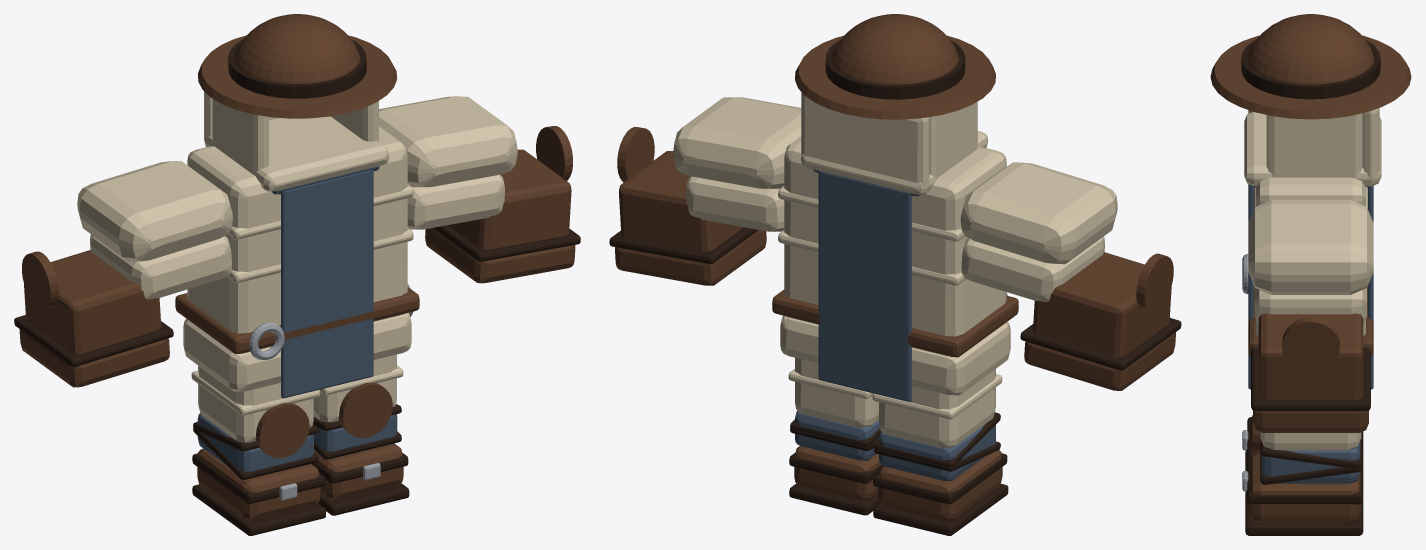
The model's file is WardenArmorSet.ready.glb.
3 renders of one model, left to right at view 1: azimuth 30°, elevation 25°; view 2: azimuth 150°, elevation 25°; view 3: azimuth 270°, elevation 25°, orthographic.
Visible parts, largest first — view 1: Chestplate, Helmet, RightUpperArm, RightLowerArm, LeftUpperArm, LeftLowerArm, RightBoots, LeftBoots, RightLeggings, LeftLeggings; view 2: Chestplate, Helmet, RightUpperArm, RightLowerArm, LeftLowerArm, LeftUpperArm, RightBoots, LeftBoots, RightLeggings, LeftLeggings; view 3: Helmet, LeftUpperArm, LeftLowerArm, LeftBoots, Chestplate, LeftLeggings, RightBoots.
Boxes of the visible parts, <box> form: Chestplate: <box>175,126,419,398</box>; Helmet: <box>198,14,396,191</box>; RightUpperArm: <box>77,161,232,299</box>; RightLowerArm: <box>14,250,173,387</box>; LeftUpperArm: <box>379,96,517,229</box>; LeftLowerArm: <box>425,126,580,283</box>; RightBoots: <box>192,413,325,535</box>; LeftBoots: <box>311,404,409,515</box>; RightLeggings: <box>191,365,320,458</box>; LeftLeggings: <box>313,354,403,438</box>; Chestplate: <box>772,136,1018,401</box>; Helmet: <box>795,14,995,194</box>; RightUpperArm: <box>960,162,1117,302</box>; RightLowerArm: <box>1020,252,1181,390</box>; LeftLowerArm: <box>609,127,766,285</box>; LeftUpperArm: <box>673,97,801,231</box>; RightBoots: <box>873,412,1008,535</box>; LeftBoots: <box>789,411,883,515</box>; RightLeggings: <box>872,369,1002,447</box>; LeftLeggings: <box>788,357,878,427</box>; Helmet: <box>1210,14,1411,186</box>; LeftUpperArm: <box>1248,200,1373,324</box>; LeftLowerArm: <box>1251,313,1370,432</box>; LeftBoots: <box>1242,432,1363,535</box>; Chestplate: <box>1242,177,1373,389</box>; LeftLeggings: <box>1253,424,1361,452</box>; RightBoots: <box>1242,415,1363,491</box>.
Bounding box in the file's own units: 6.32 × 5.44 × 2.08.
Materials: 1 (1 with a texture image).
